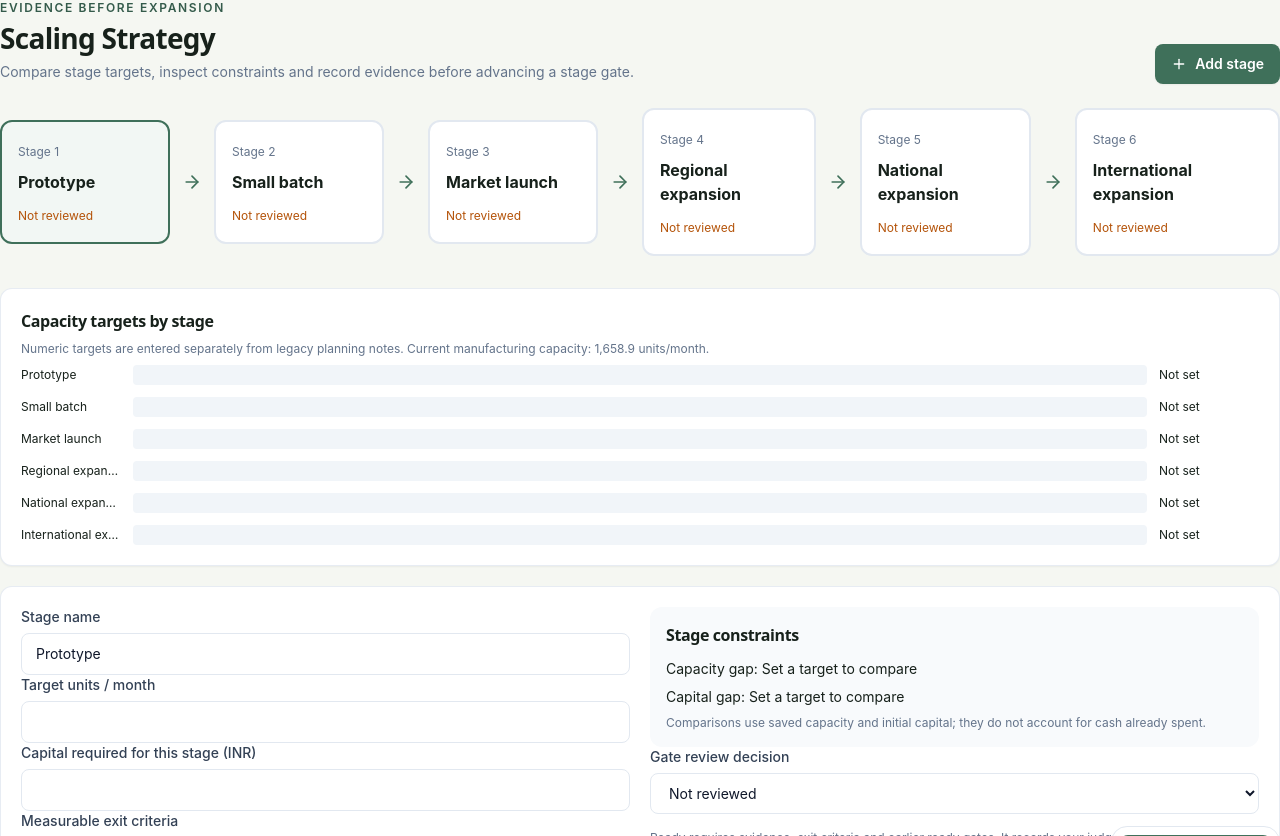
Test: blocks a ready scaling gate without evidence
Select "Ready" in the dropdown labelled "Gate review decision" at {"x": 954, "y": 794}, box 650,773 -> 1259,814
(page scrolled)
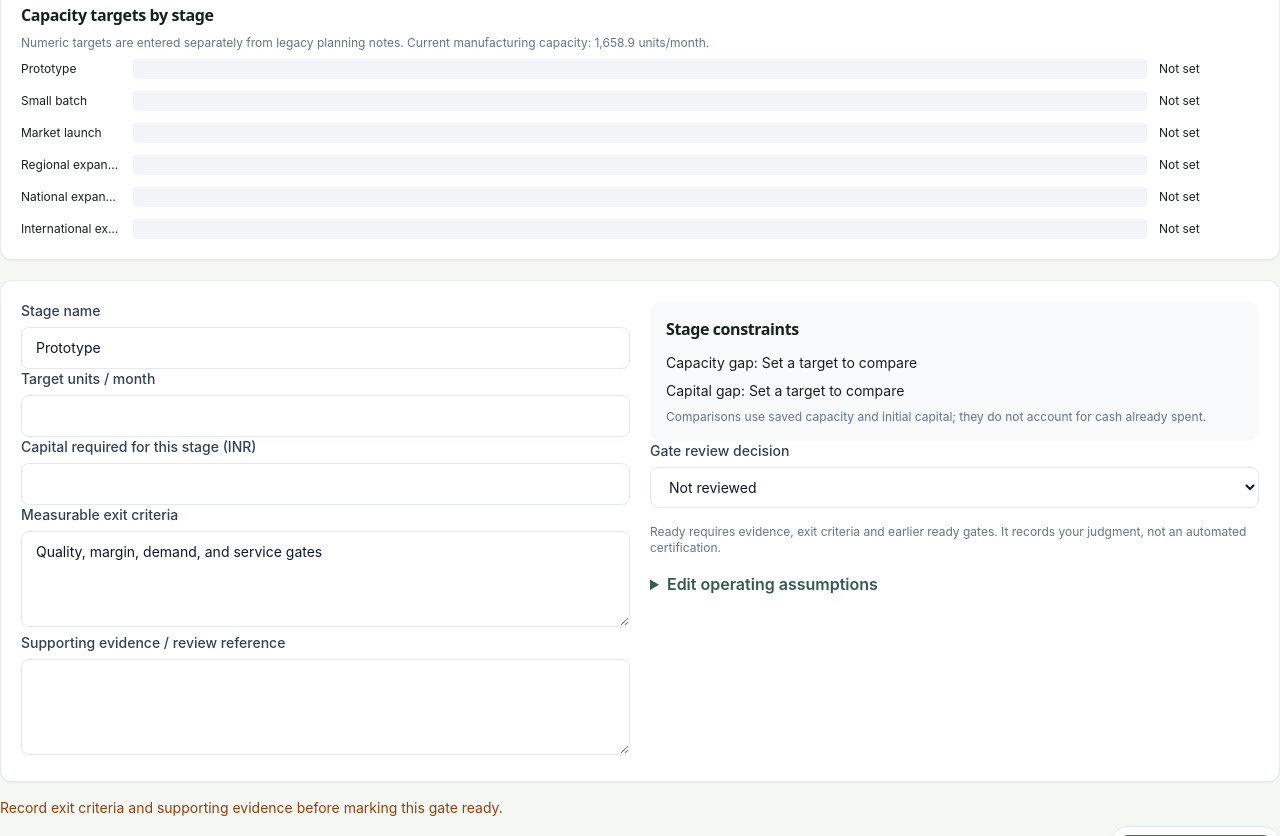
Expected: the message shows "supporting evidence", 0,799 -> 503,816
